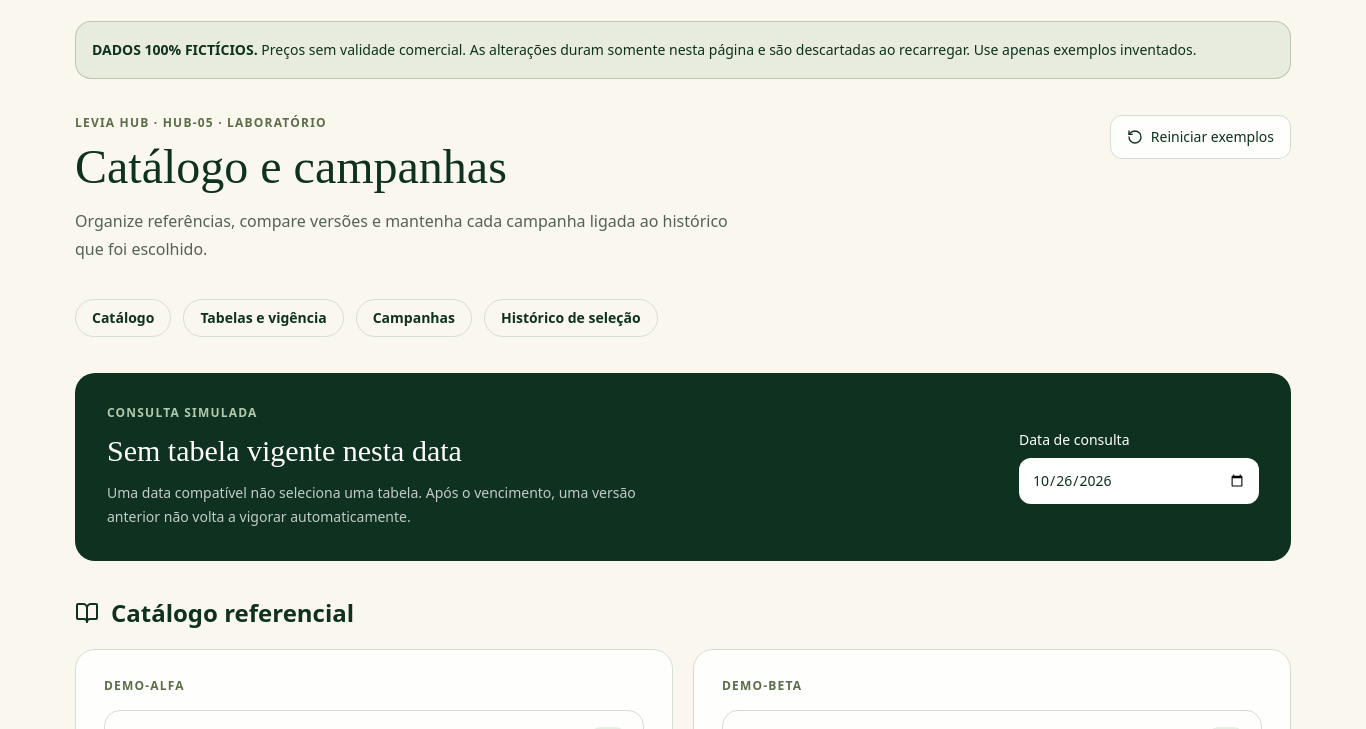
Test: HUB-05 synthetic workspace › reports a domain error instead of silently selecting an expired table
Step 1. Type "2027-01-01" into the date field labelled "Data de consulta" → (1139, 481), box [1019,458,1259,504]
(page scrolled)
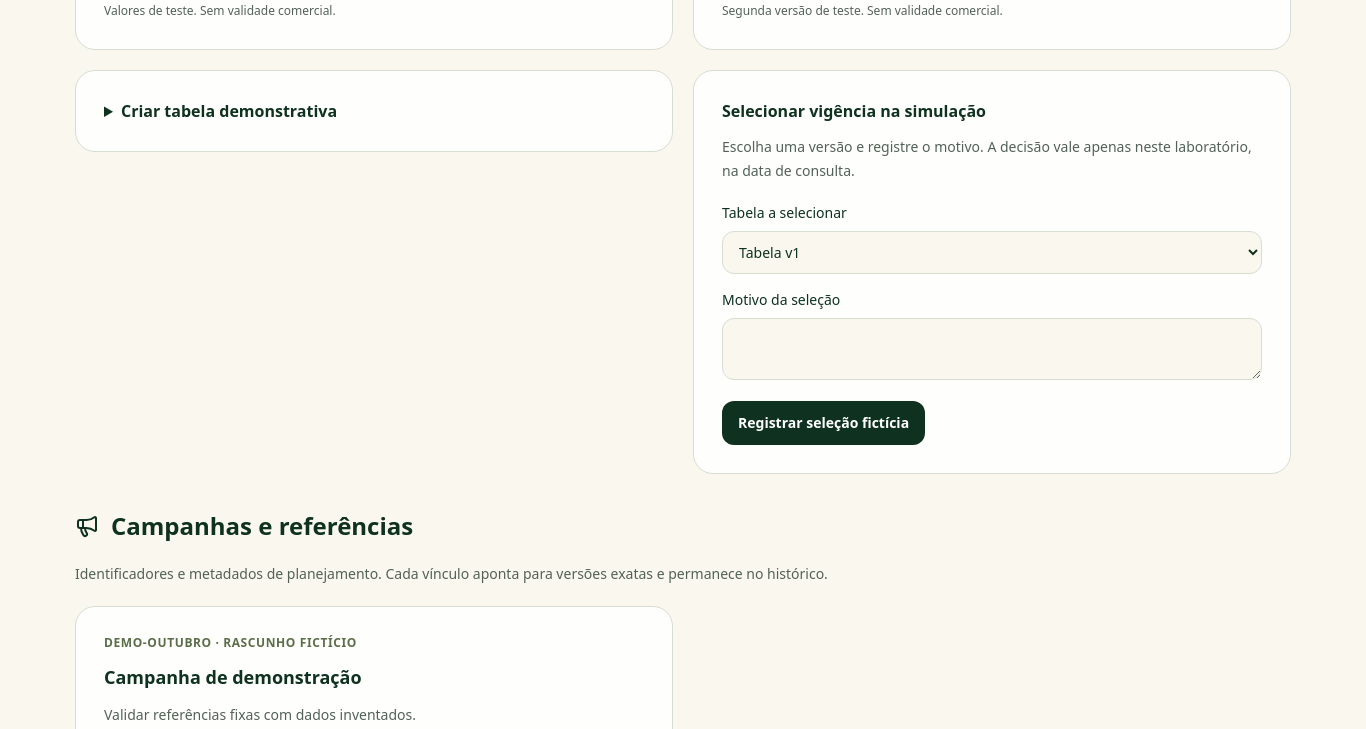
Step 2. Type "Tentativa de selecionar versão expirada." into the text box labelled "Motivo da seleção" → (992, 349), box [722,318,1262,380]
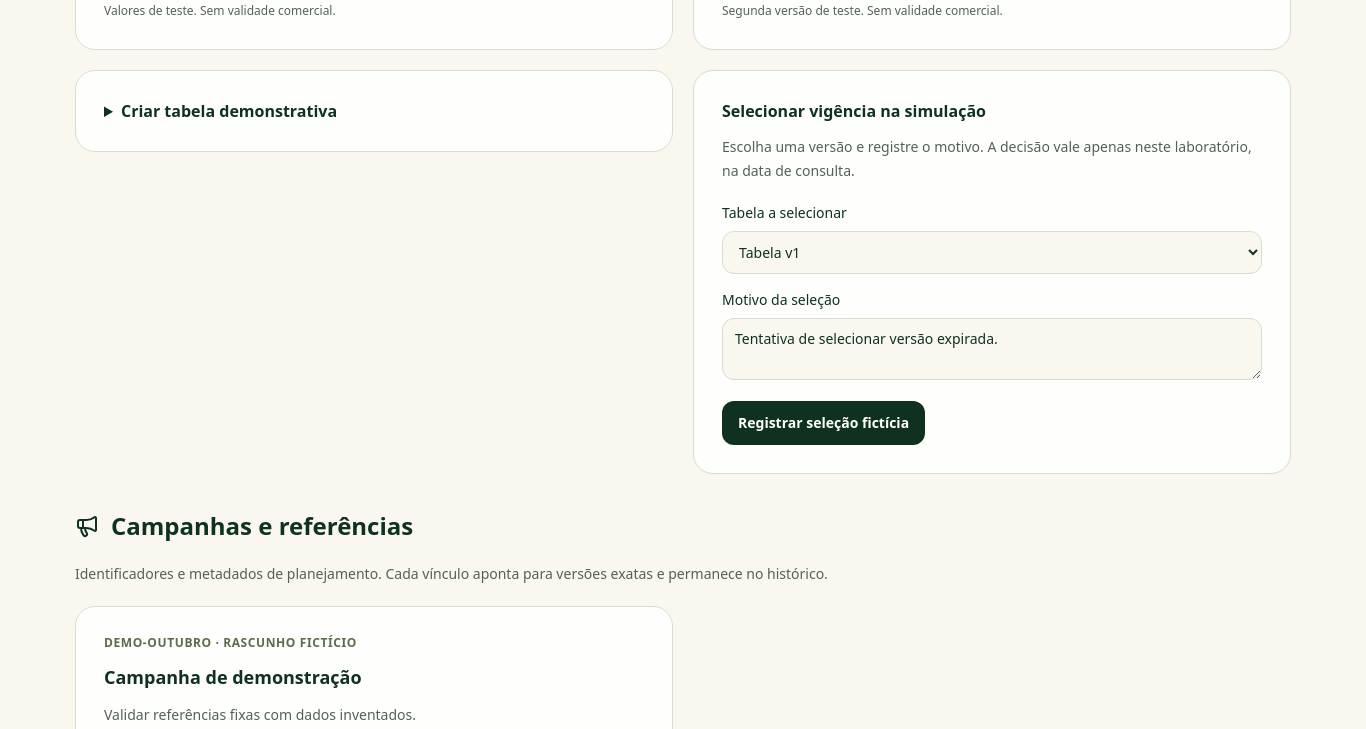
Step 3. Click the button "Registrar seleção fictícia" → (824, 423), box [722,401,925,445]
(page scrolled)
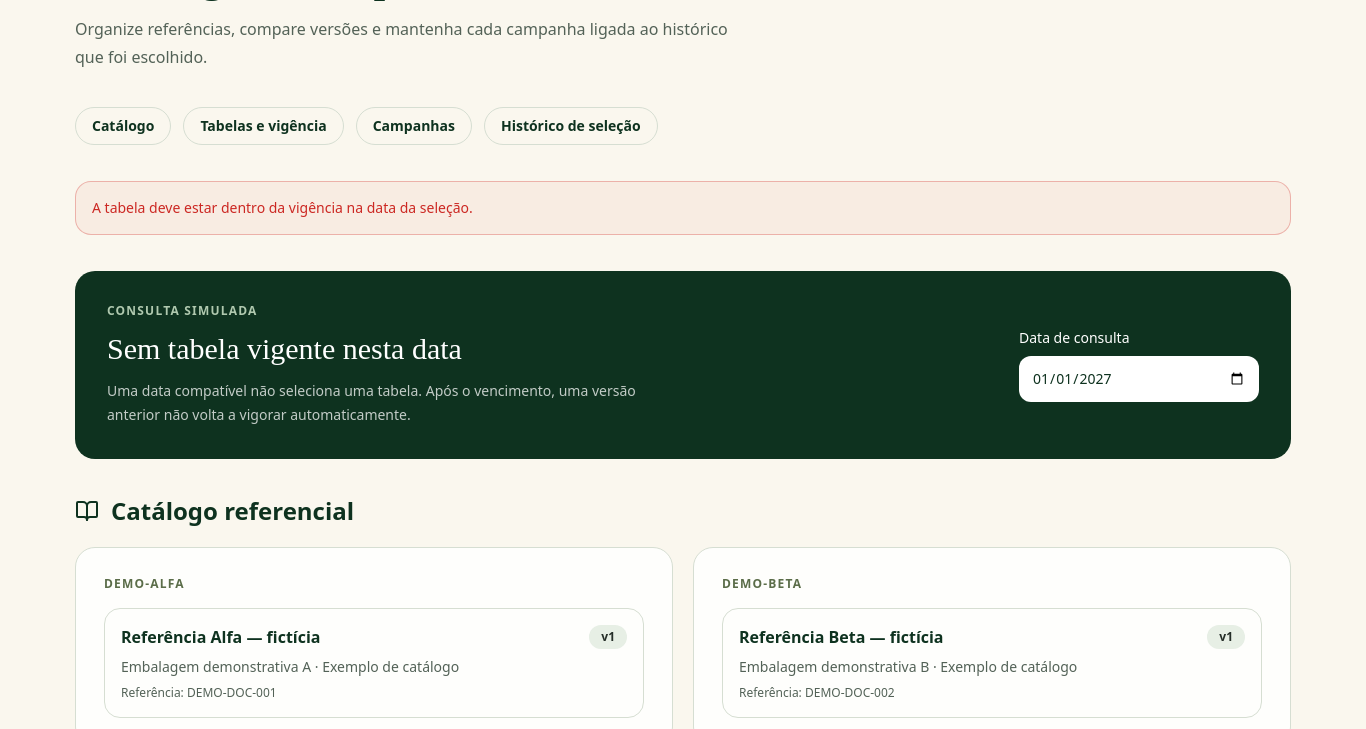
Expected: the heading with test id "current-table" shows "Sem tabela vigente", [107,332,462,365]
Now the message shows "vigência", box [92,198,473,217]
